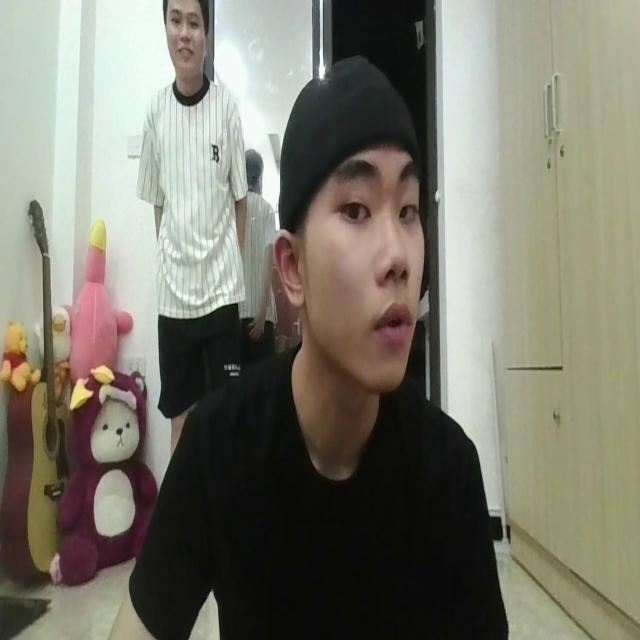extra_person: (127, 0, 249, 409)
student: (130, 64, 508, 640)
